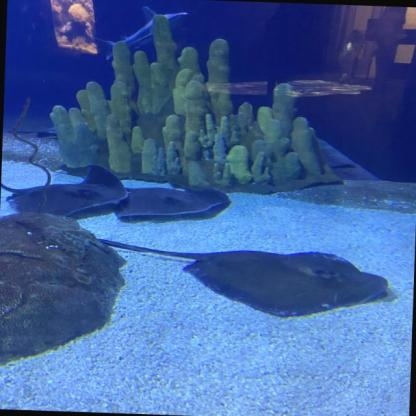shark: (98, 7, 187, 64)
stingray: (185, 247, 392, 318), (5, 159, 139, 222), (112, 180, 229, 228)
